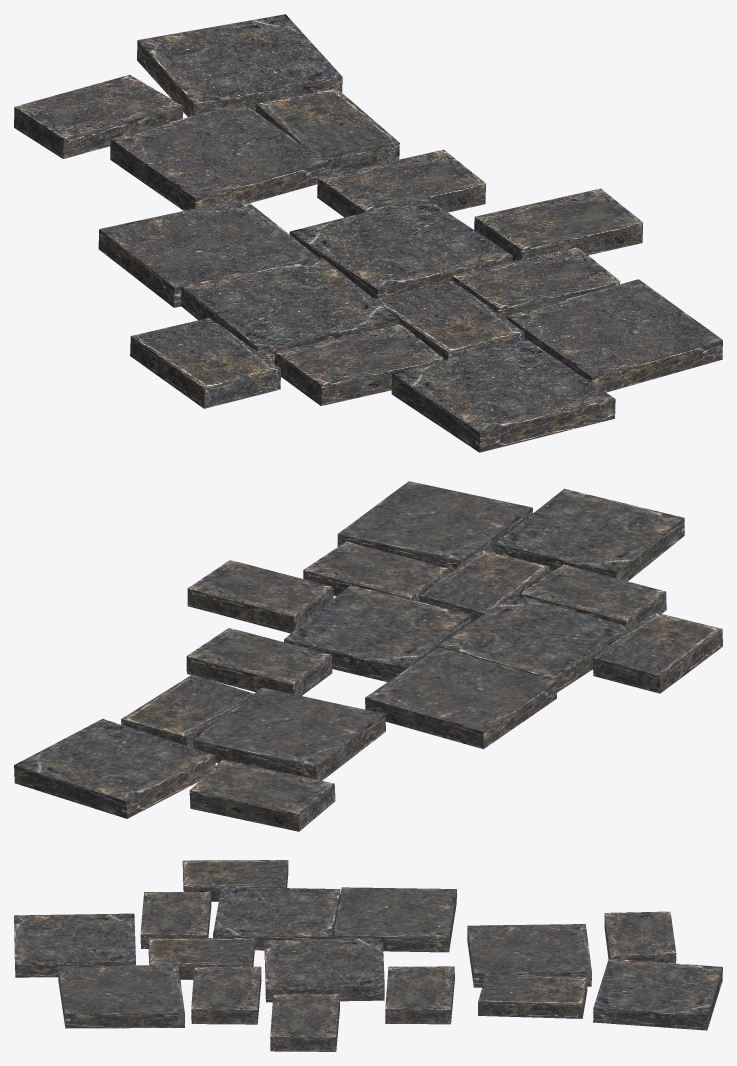
The model's file is Floor_02.fbx.
3 views of the same model, one above another, from view 1: azimuth 30°, elevation 25°; view 2: azimuth 150°, elevation 25°; view 3: azimuth 270°, elevation 25° (orthographic). The views are drawn at different scales.
Visible parts, largest first — view 1: StoneBricks; view 2: StoneBricks; view 3: StoneBricks.
Part boxes in pixels (box(x1,y1,x2,y2)): StoneBricks: box(14, 14, 722, 452); StoneBricks: box(14, 481, 722, 831); StoneBricks: box(14, 860, 722, 1051).
Size of what is drawn, in the model's own units: 225 by 9.53 by 377.
